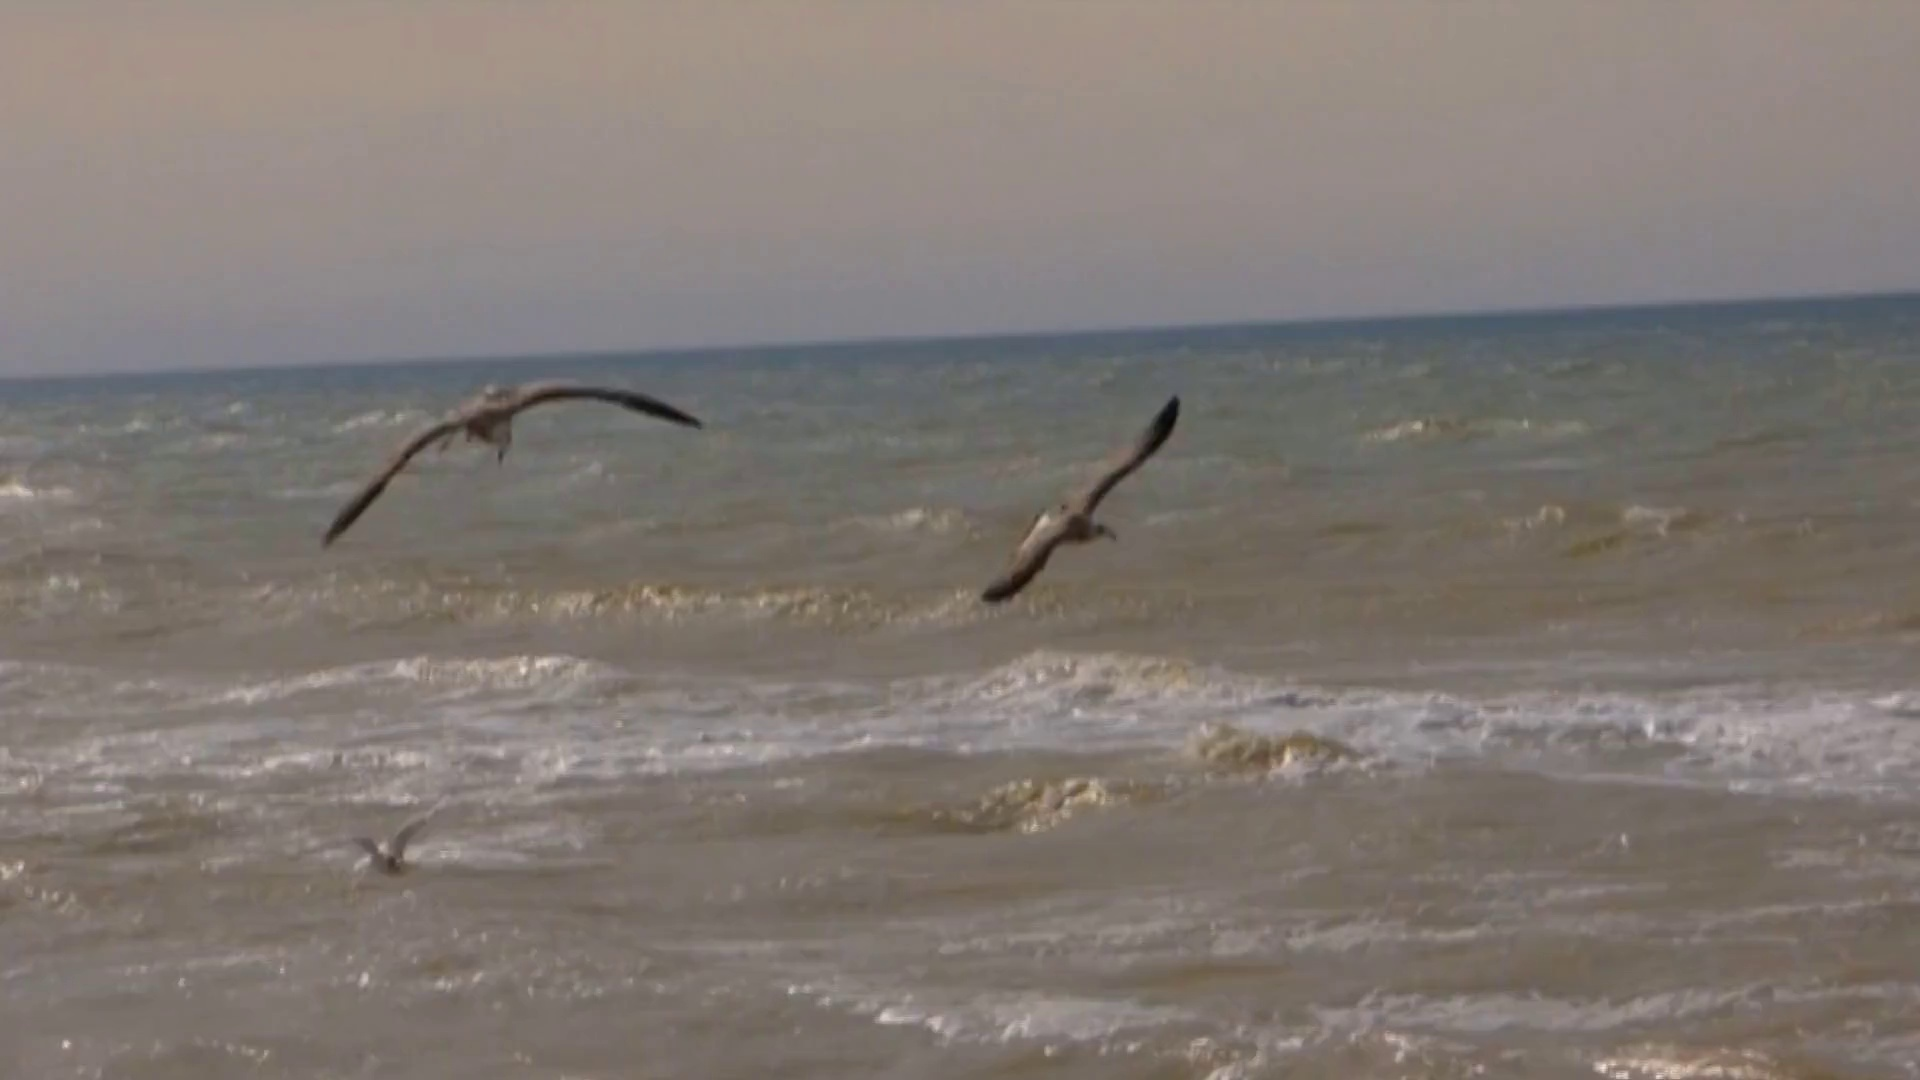bird: (318, 375, 702, 547), (977, 397, 1180, 607)
